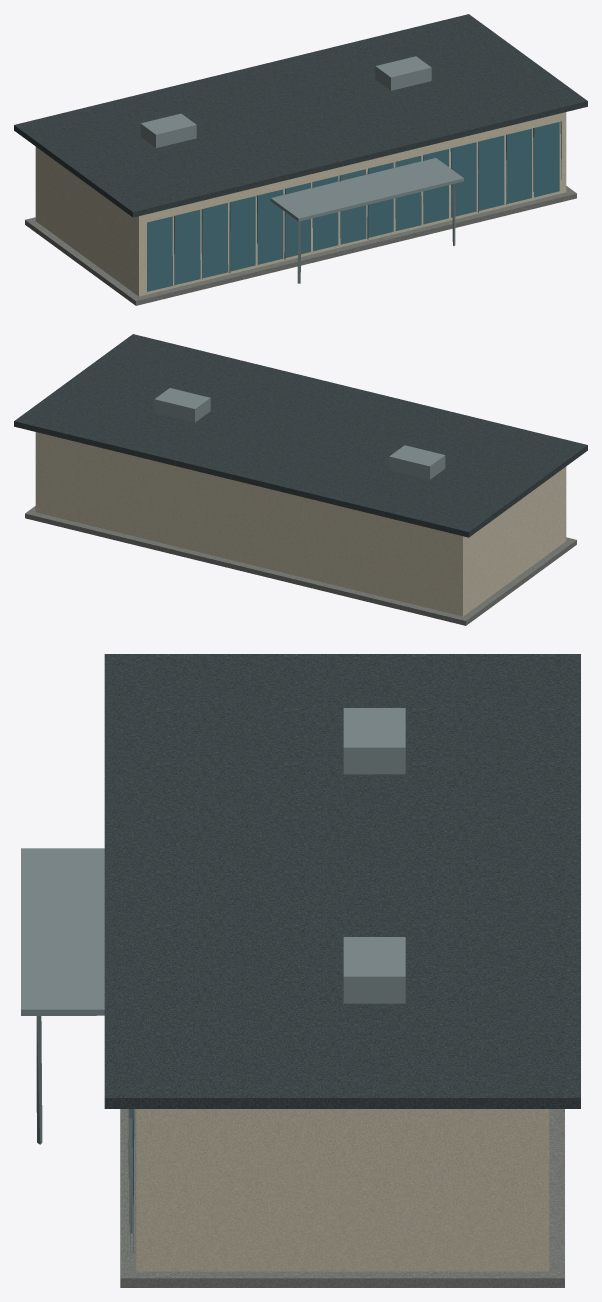
Rendered from RegionalTerminal_32x14_LOD2.glb.
3 views of the same model, one above another, from view 1: azimuth 30°, elevation 25°; view 2: azimuth 150°, elevation 25°; view 3: azimuth 270°, elevation 25° (orthographic). The views are drawn at different scales.
Visible parts, largest first — view 1: RegionalTerminal_32x14_export; view 2: RegionalTerminal_32x14_export; view 3: RegionalTerminal_32x14_export.
Boxes of the visible parts, left/top/right/bottom form: RegionalTerminal_32x14_export: left=14, top=14, right=587, bottom=305; RegionalTerminal_32x14_export: left=14, top=334, right=587, bottom=625; RegionalTerminal_32x14_export: left=21, top=654, right=580, bottom=1287.
Bounding box in the file's own units: 32.93 × 7.74 × 17.55.
5 materials, 3 textured.
